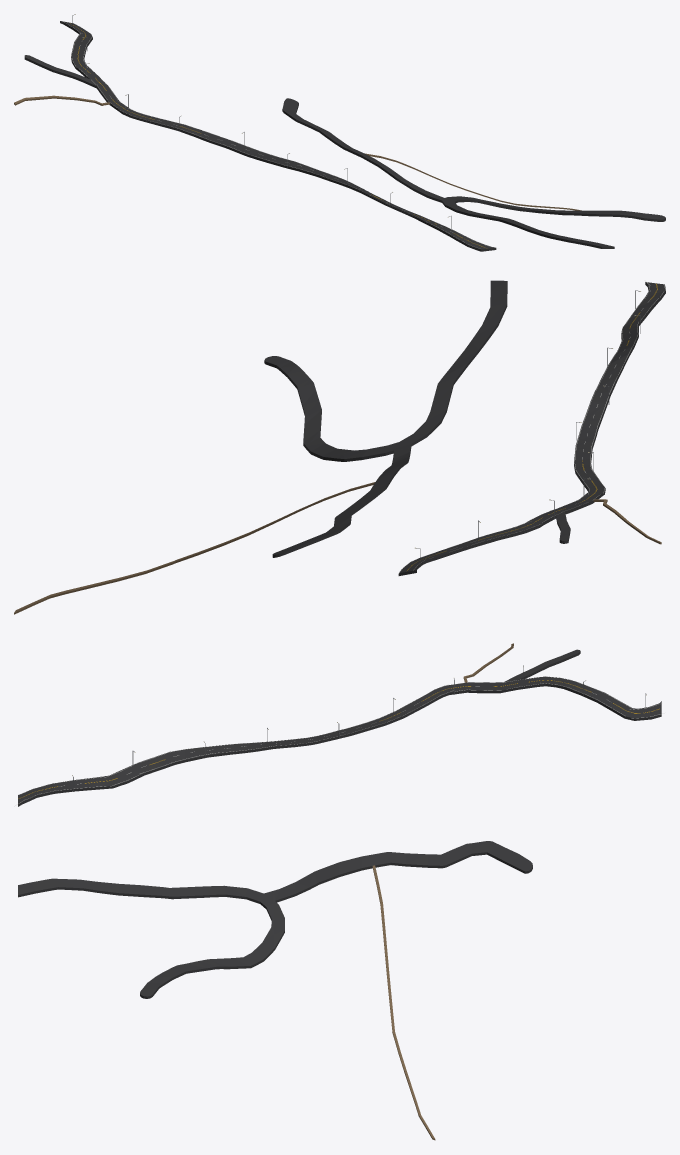
3 views of the same model, one above another, from view 1: azimuth 30°, elevation 25°; view 2: azimuth 150°, elevation 25°; view 3: azimuth 270°, elevation 25° (orthographic). The views are drawn at different scales.
Size of the model in its own units: 293 by 121 by 295.
